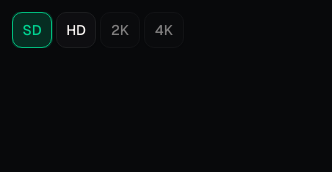
Test case: ResolutionTierSelector › shows tooltip with correct content
Note: Hover to trigger tooltip
Hover over the button with test id "tier-sd" at [32, 30], box [12,12,52,48]
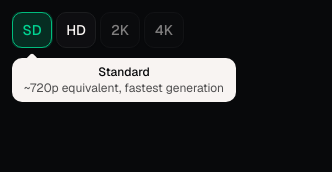
Check: the text "Standard" is shown, box [98,64,150,80]
Check: the text "~720p equivalent, fastest generation" is shown, box [24,80,224,96]
